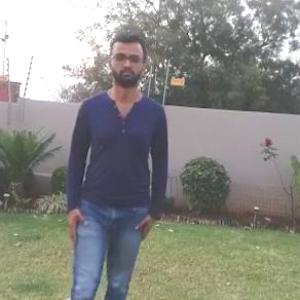follow: (71, 43, 156, 299)
